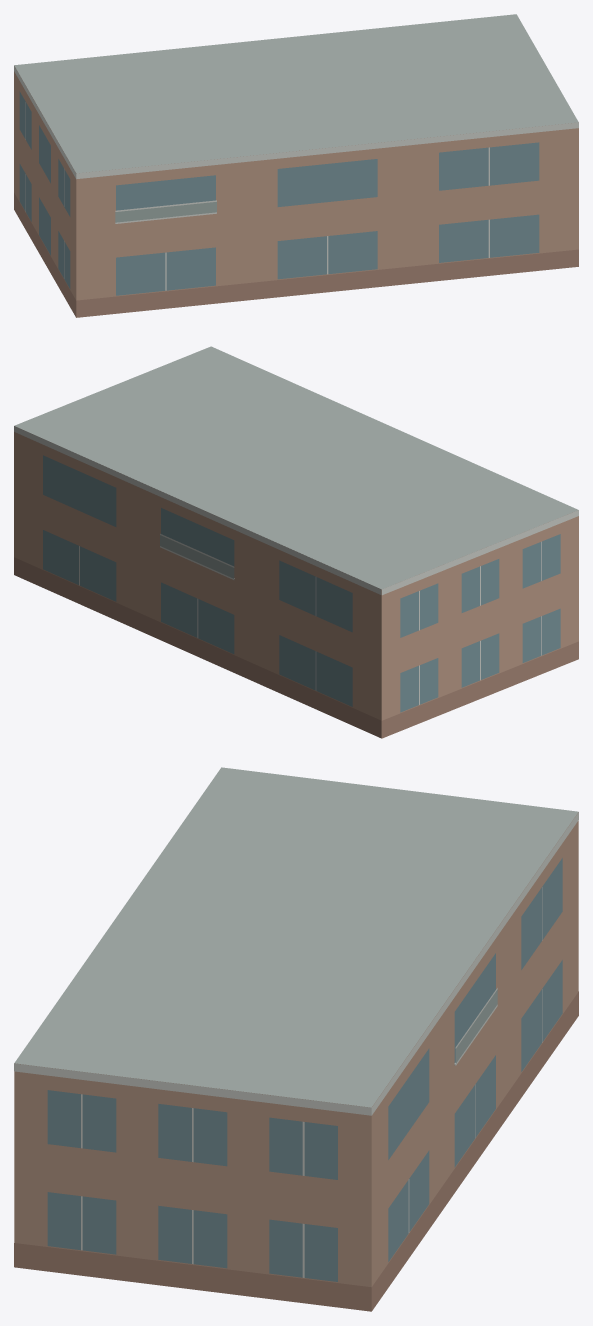
File: survey-upis-32741740.glb
3 views of the same model, one above another, from view 1: azimuth 30°, elevation 25°; view 2: azimuth 150°, elevation 25°; view 3: azimuth 270°, elevation 25° (orthographic). The views are drawn at different scales.
Parts seen in each view (by area): view 1: survey-upis-32741740.tmp; view 2: survey-upis-32741740.tmp; view 3: survey-upis-32741740.tmp.
Part boxes in pixels (x1=…): survey-upis-32741740.tmp: x1=14, y1=14, x2=578, y2=317; survey-upis-32741740.tmp: x1=14, y1=346, x2=578, y2=738; survey-upis-32741740.tmp: x1=14, y1=767, x2=578, y2=1311.
Size of the model in its own units: 21.83 by 6.1 by 15.31.
